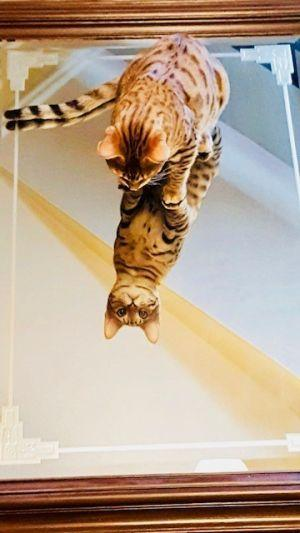bengal: (87, 273, 183, 350)
